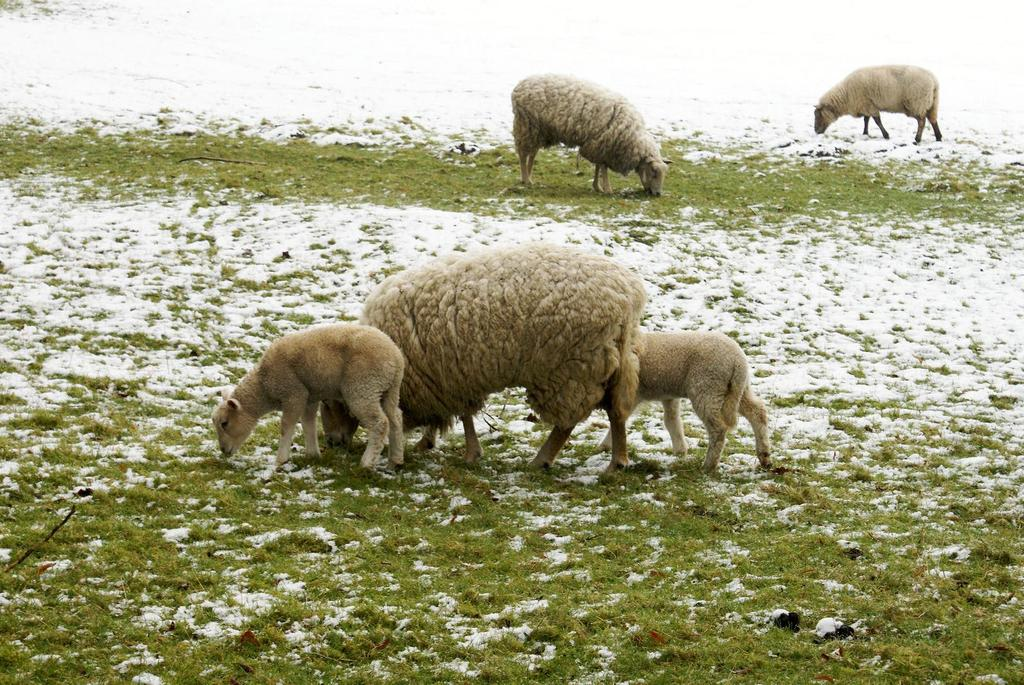sheep: (215, 322, 405, 479), (511, 72, 672, 199), (814, 64, 938, 144)
